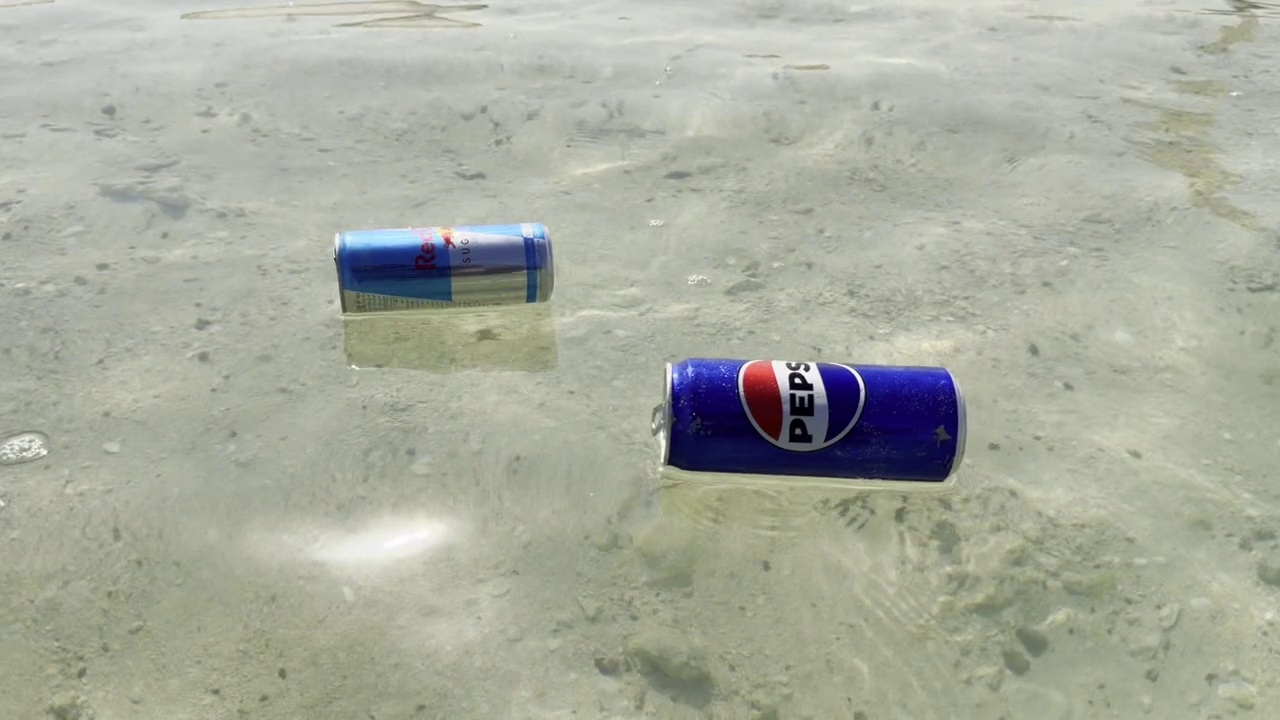debris: (638, 334, 983, 493), (323, 212, 566, 315)
